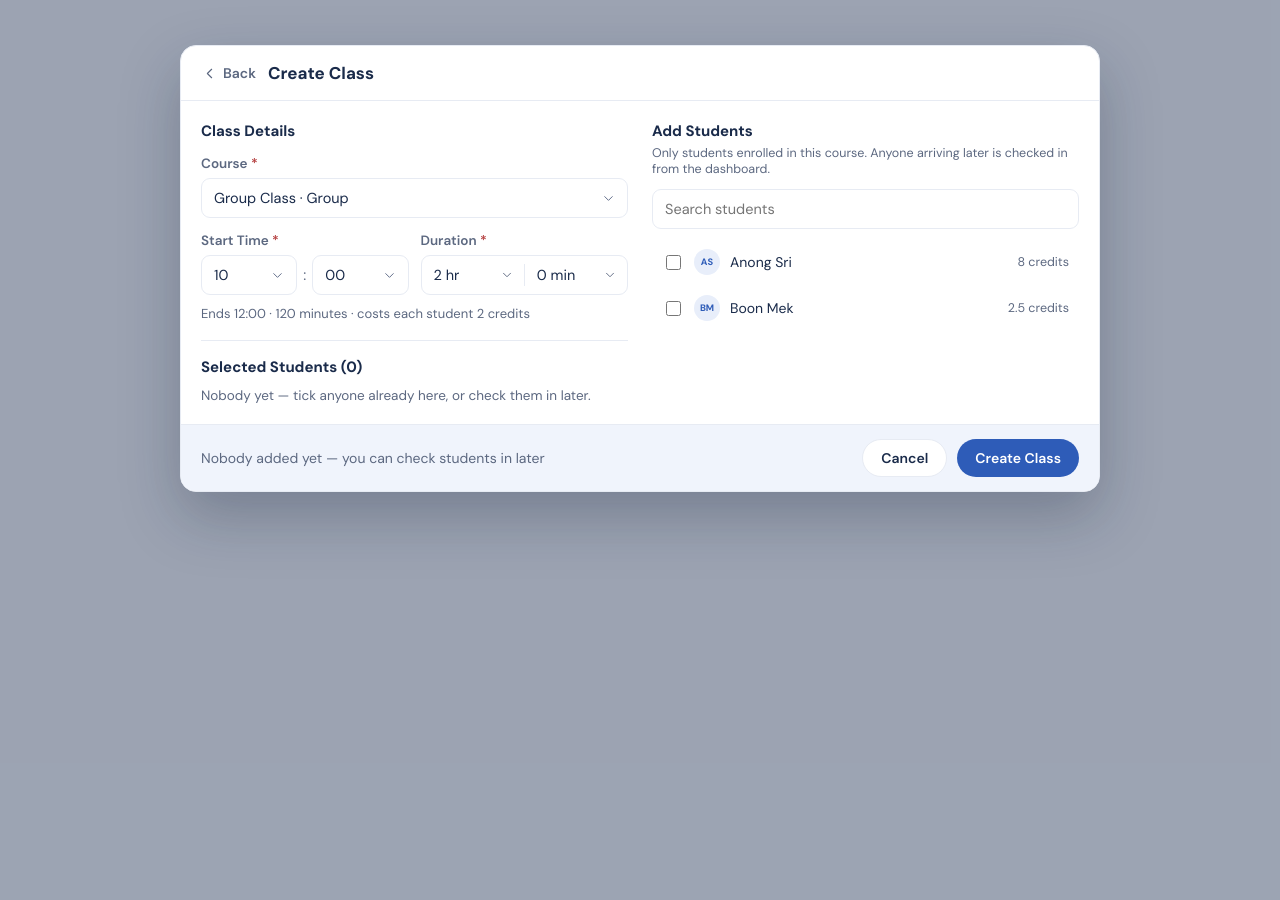
Scenario: choosing the times › has nothing to put minutes on until an hour is chosen
Select "--" in the dropdown named "Start hour" at (249, 275), box [201,255,297,295]
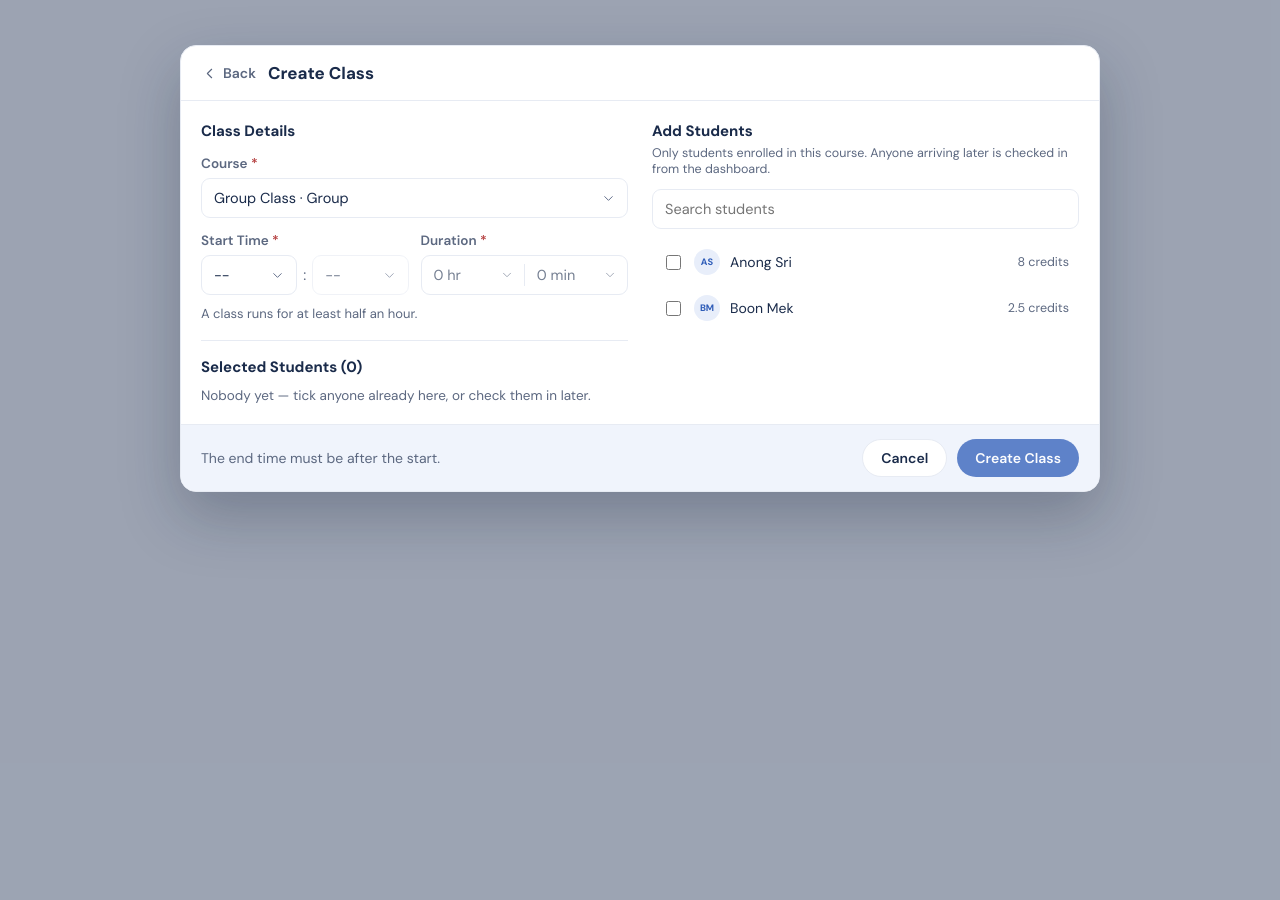
expect the dropdown named "Start minute" is disabled: met, box [312,255,408,295]
